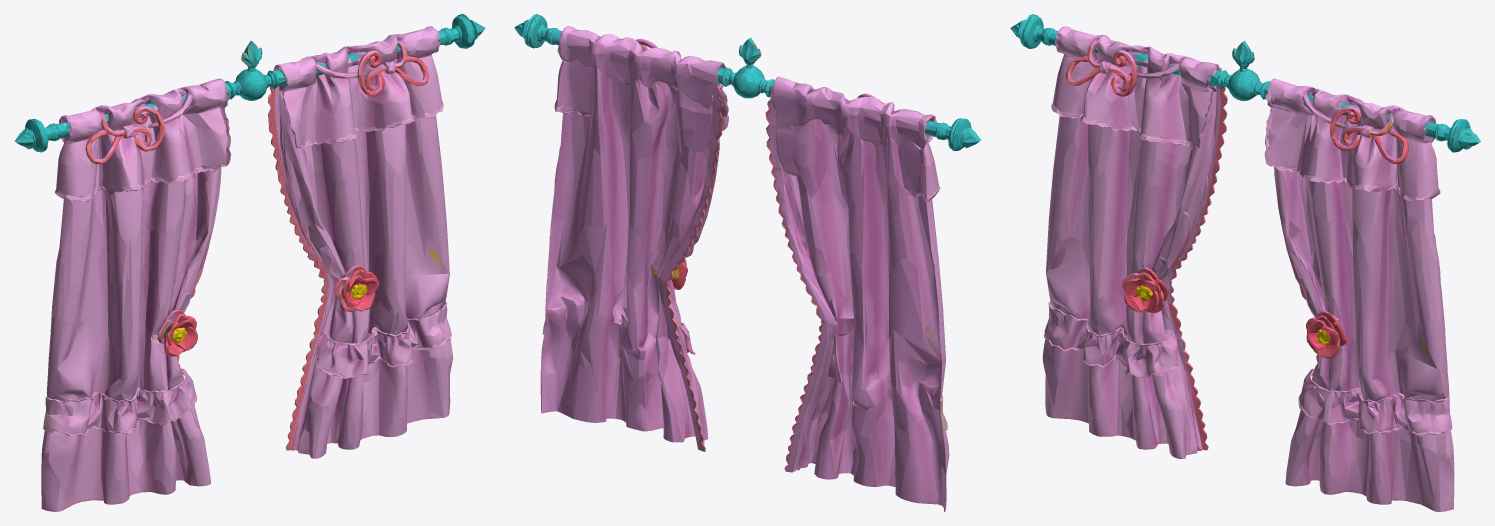
Rendered from peek-a-boo-window-curtains-v1.glb.
3 views of the same model, side by side, from view 1: azimuth 30°, elevation 25°; view 2: azimuth 150°, elevation 25°; view 3: azimuth 330°, elevation 25° (orthographic).
Size of the model in its own units: 1.9 by 1.64 by 0.2253.
Materials: 1 (1 with a texture image).
